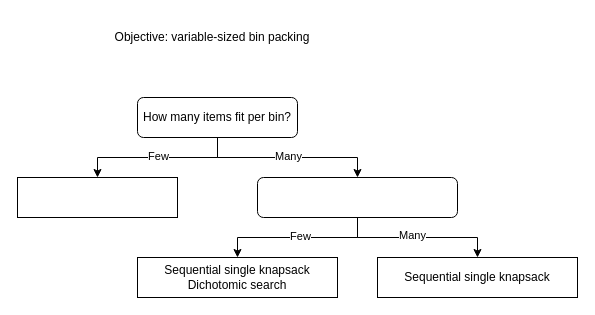
The diagram is 595 pixels wide and 315 high, and some of its shapes have lost their labels. Each missing label, with the box of its shape:
How many copies per item type?: (256, 176, 458, 218)
Sequential value correction Column generation: (16, 176, 178, 218)
